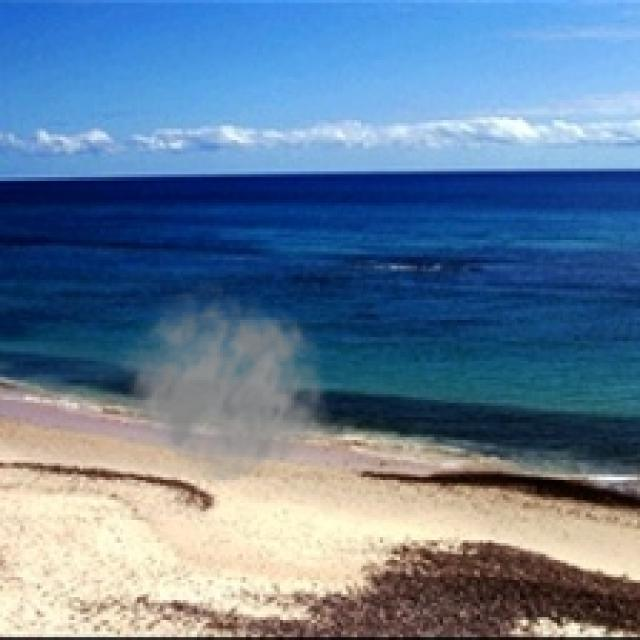smoke: (109, 280, 334, 483)
